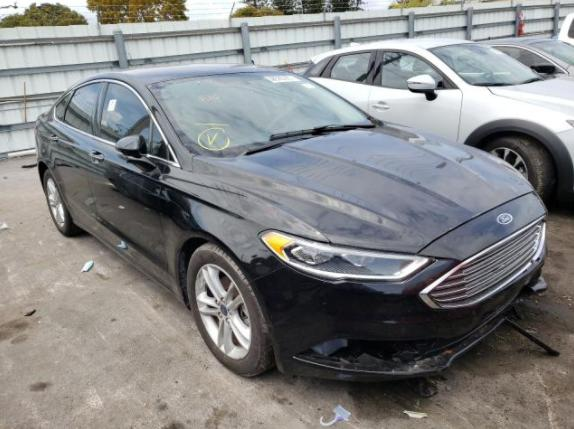Broken part: (248, 188, 548, 379)
Missing part: (310, 339, 444, 368)
